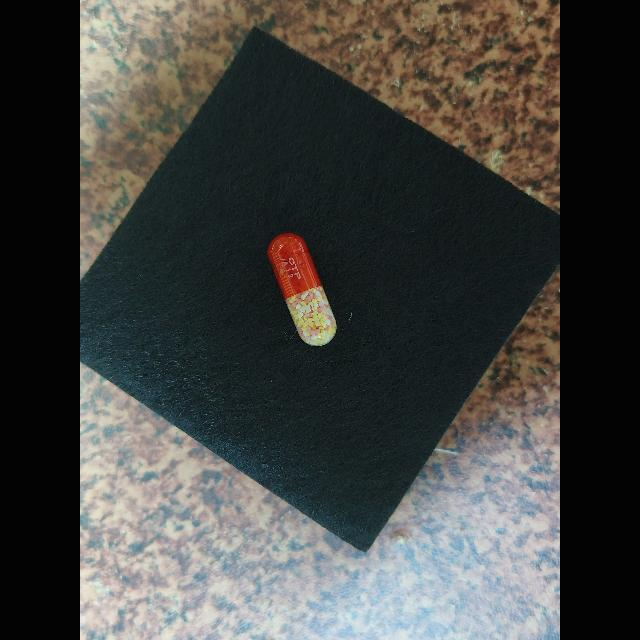Intact Capsule: (267, 233, 336, 346)
